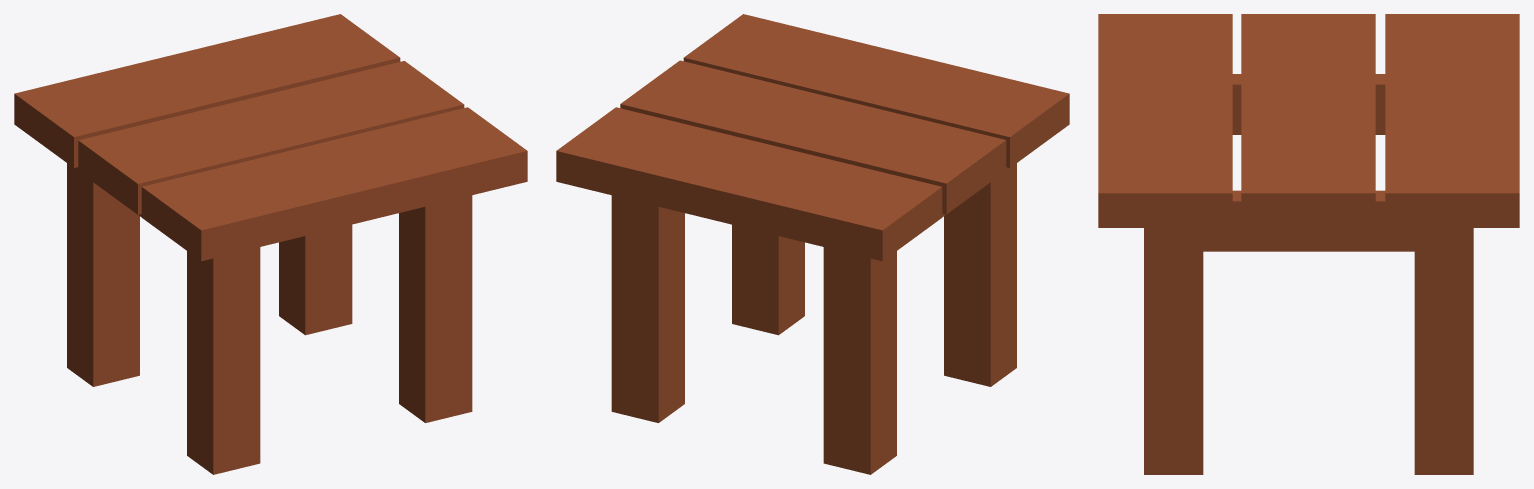
Rendered from Prop_Furniture_Fantasy_Dungeon_Stool_Wooden_01.FBX.
The picture shows the model from 3 angles, left to right: view 1: azimuth 30°, elevation 25°; view 2: azimuth 150°, elevation 25°; view 3: azimuth 270°, elevation 25°; orthographic projection. The views are drawn at different scales.
Parts seen in each view (by area): view 1: Prop_Furniture_Fantasy_Dungeon_Stool_Wooden_01; view 2: Prop_Furniture_Fantasy_Dungeon_Stool_Wooden_01; view 3: Prop_Furniture_Fantasy_Dungeon_Stool_Wooden_01.
Boxes of the visible parts, box(x1,y1,x2,y2) form: Prop_Furniture_Fantasy_Dungeon_Stool_Wooden_01: box(14, 14, 527, 474); Prop_Furniture_Fantasy_Dungeon_Stool_Wooden_01: box(556, 14, 1069, 474); Prop_Furniture_Fantasy_Dungeon_Stool_Wooden_01: box(1098, 14, 1519, 474).
Bounding box in the file's own units: 588 × 461 × 584.
